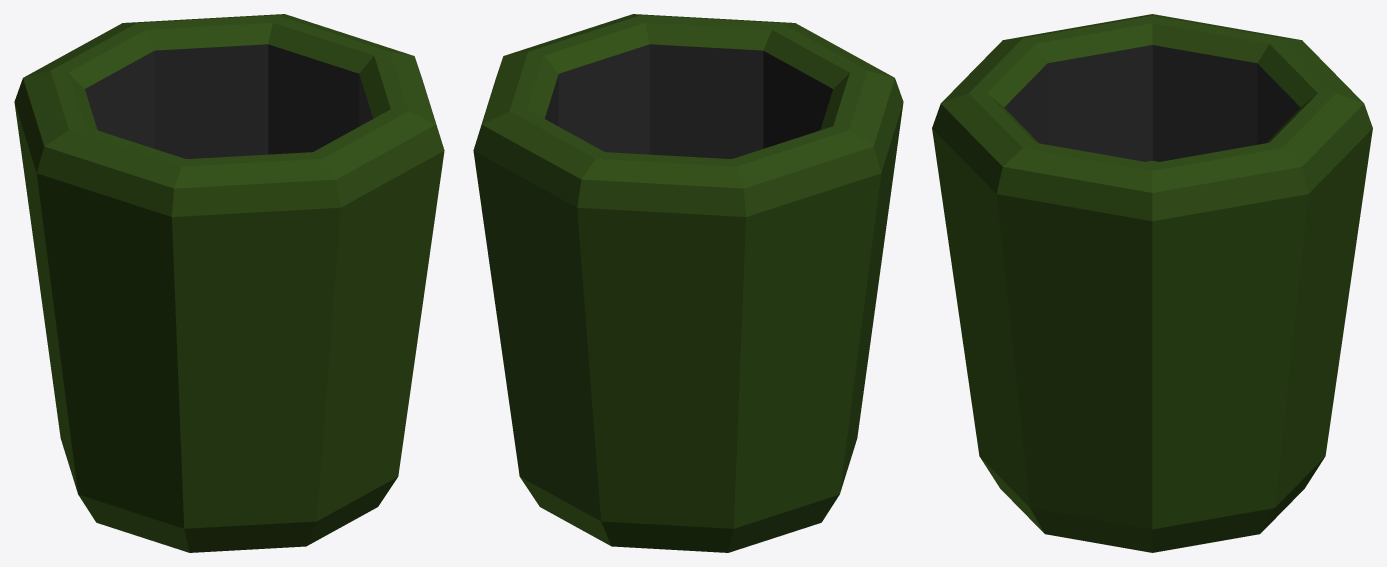
The model's file is Bin.fbx.
3 views of the same model, side by side, from view 1: azimuth 30°, elevation 25°; view 2: azimuth 150°, elevation 25°; view 3: azimuth 270°, elevation 25° (orthographic).
Parts seen in each view (by area): view 1: Bin; view 2: Bin; view 3: Bin.
Part boxes in pixels (box(x1,y1,x2,y2)): Bin: box(14, 14, 444, 552); Bin: box(473, 14, 903, 552); Bin: box(932, 14, 1372, 552).
Bounding box in the file's own units: 0.4536 × 0.4639 × 0.4536.
Materials: 1 (1 with a texture image).
